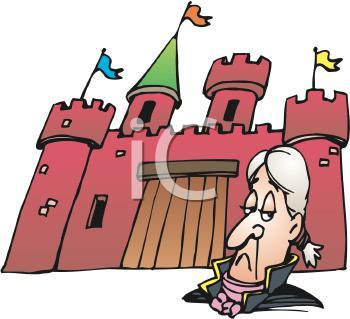person: (197, 149, 322, 313)
